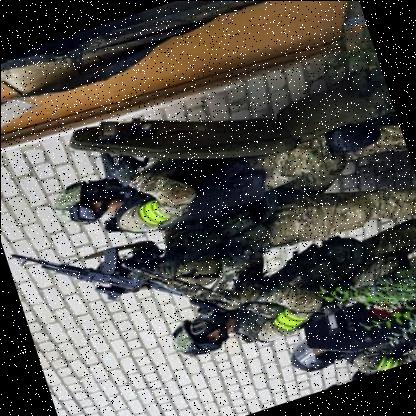rifle: (119, 212, 298, 358), (9, 208, 165, 327), (91, 137, 140, 187)
